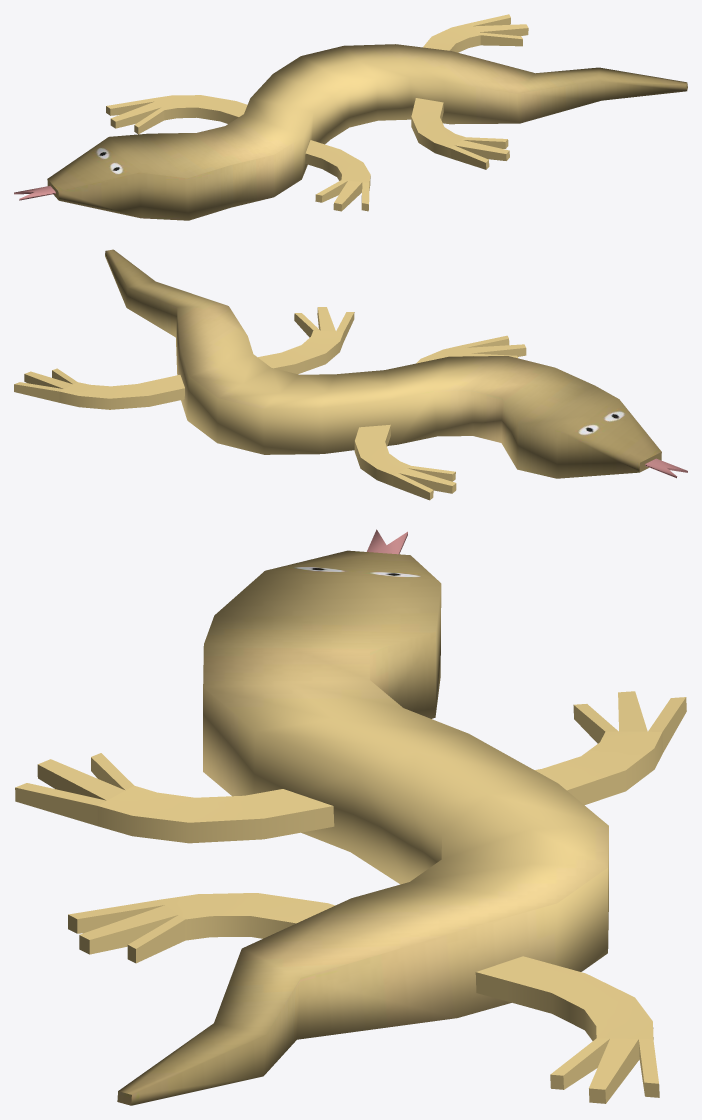
File: Lizard Model.fbx
3 views of the same model, one above another, from view 1: azimuth 30°, elevation 25°; view 2: azimuth 150°, elevation 25°; view 3: azimuth 270°, elevation 25° (orthographic). The views are drawn at different scales.
Parts seen in each view (by area): view 1: Lizard; view 2: Lizard; view 3: Lizard.
Boxes of the visible parts, x1,y1,x2,y2 form: Lizard: (14,14,687,220); Lizard: (14,249,687,500); Lizard: (15,529,686,1105).
Size of the model in its own units: 10.24 by 0.7995 by 4.91.
Materials: 1 (1 with a texture image).
